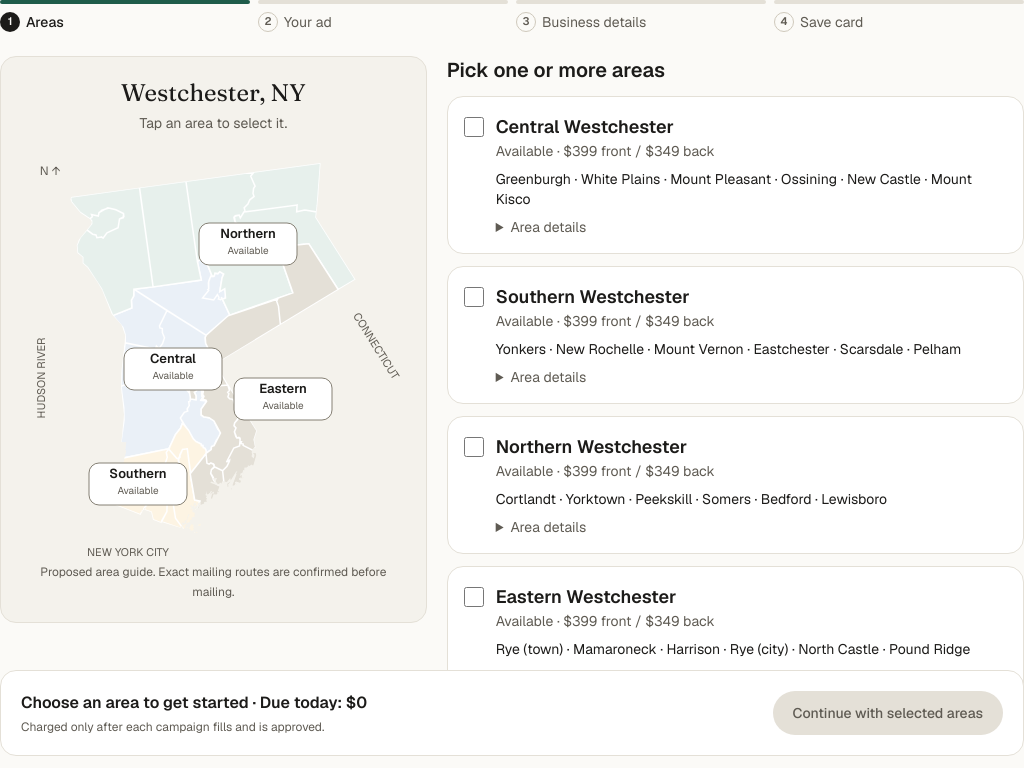
Test: 2 areas show the correct authorization with zero due today
Click the checkbox labelled "Central Westchester" at (474, 127), box [464, 117, 484, 137]
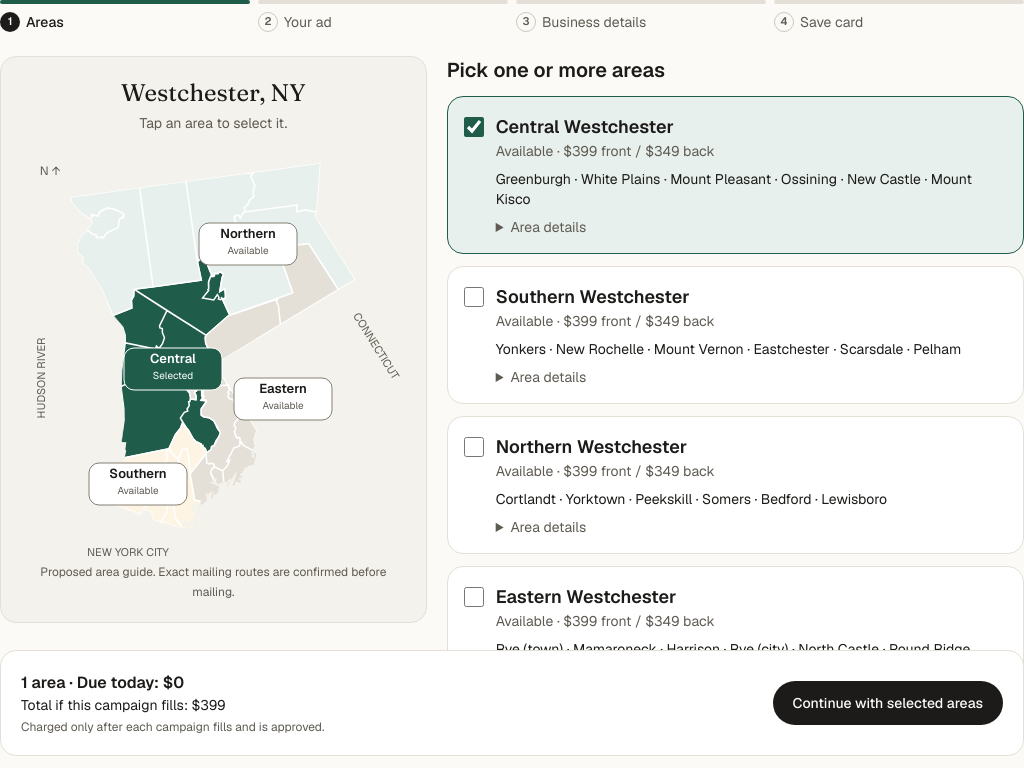
Click the checkbox labelled "Southern Westchester" at (474, 297), box [464, 287, 484, 307]
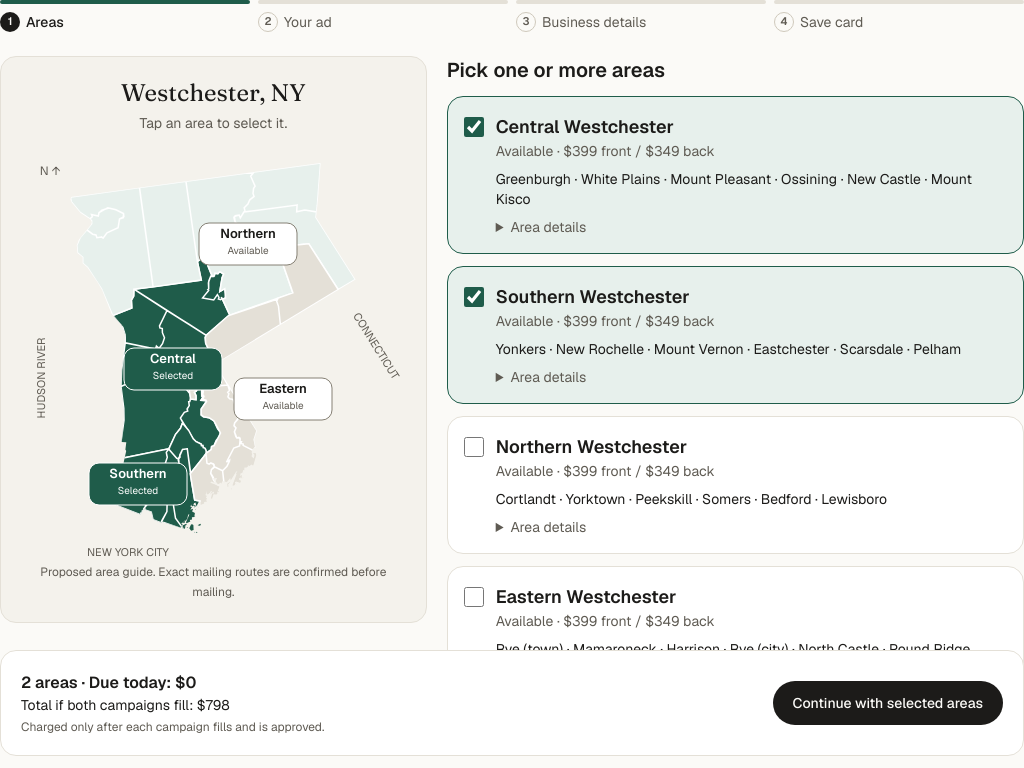
Expected: the text "Due today: $0" is shown, [89, 672, 196, 693]
Expected: the text "Total if both campaigns fill: $798" is shown, [21, 696, 230, 714]
